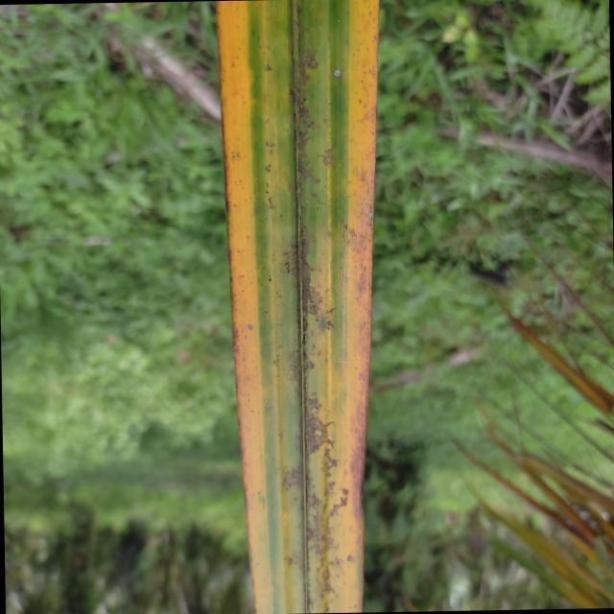Megnesium: (215, 1, 377, 614)
